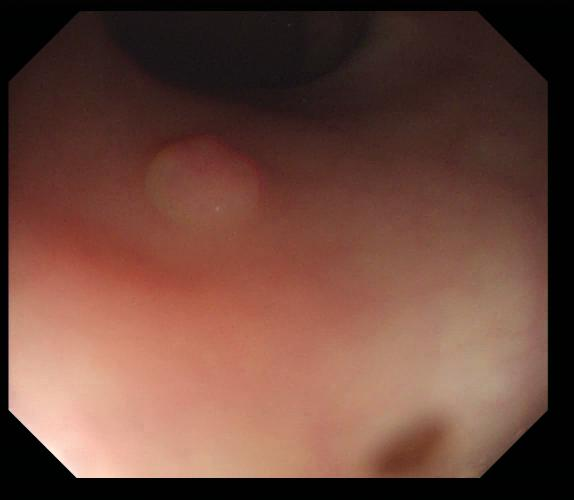polyp: (145, 138, 270, 236)
